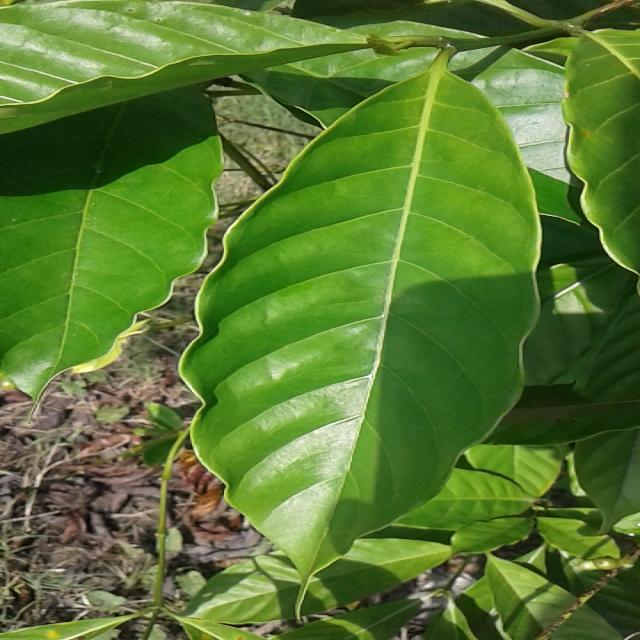Sanas: (178, 48, 548, 580)
